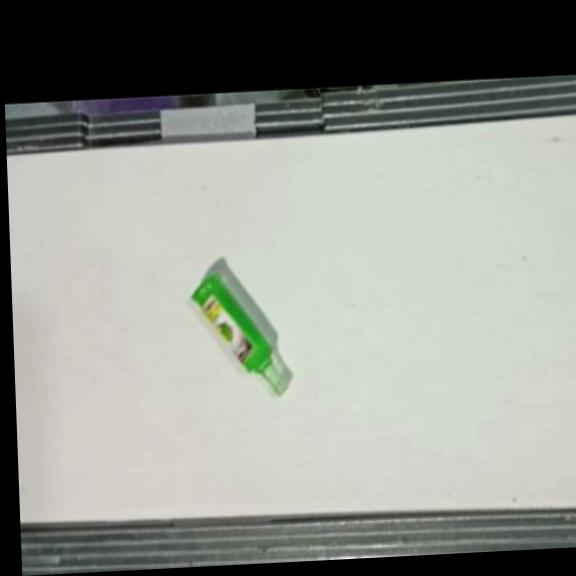Plastik: (190, 271, 286, 400)
